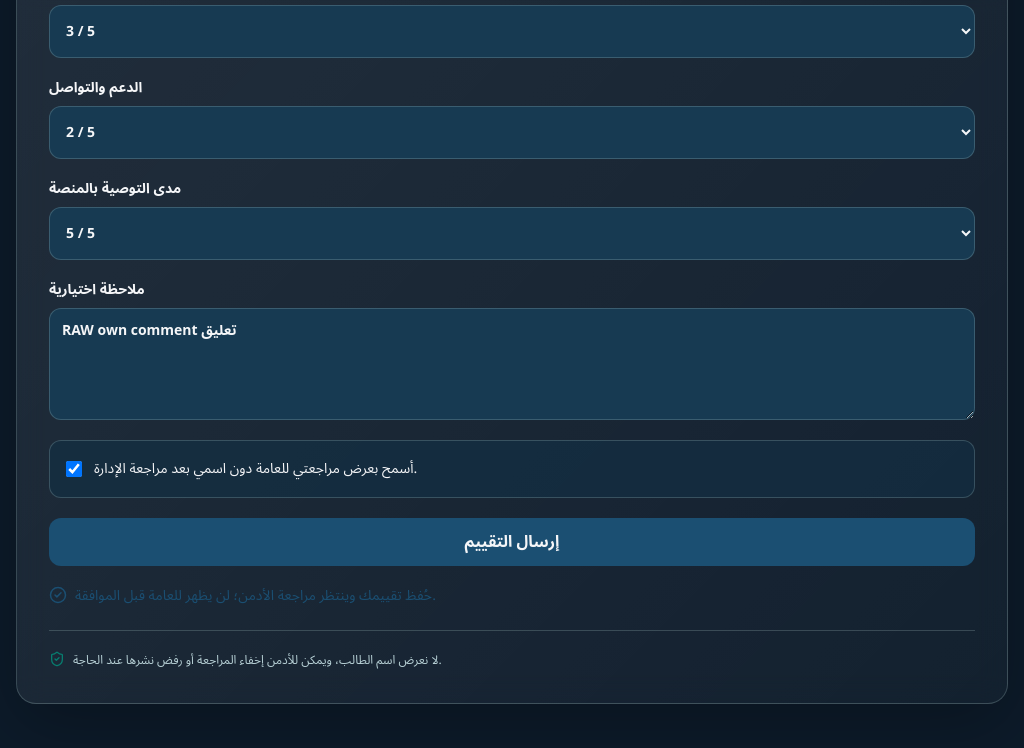
Scenario: T7-A6.3 ar UI contracts › rating save raw keeps payload, disabled guard and errors
(page scrolled)
Replace the text in the text box showing "RAW own comment تعليق" with "RAW edited comment تعليق" at (512, 364), box [49,308,975,420]
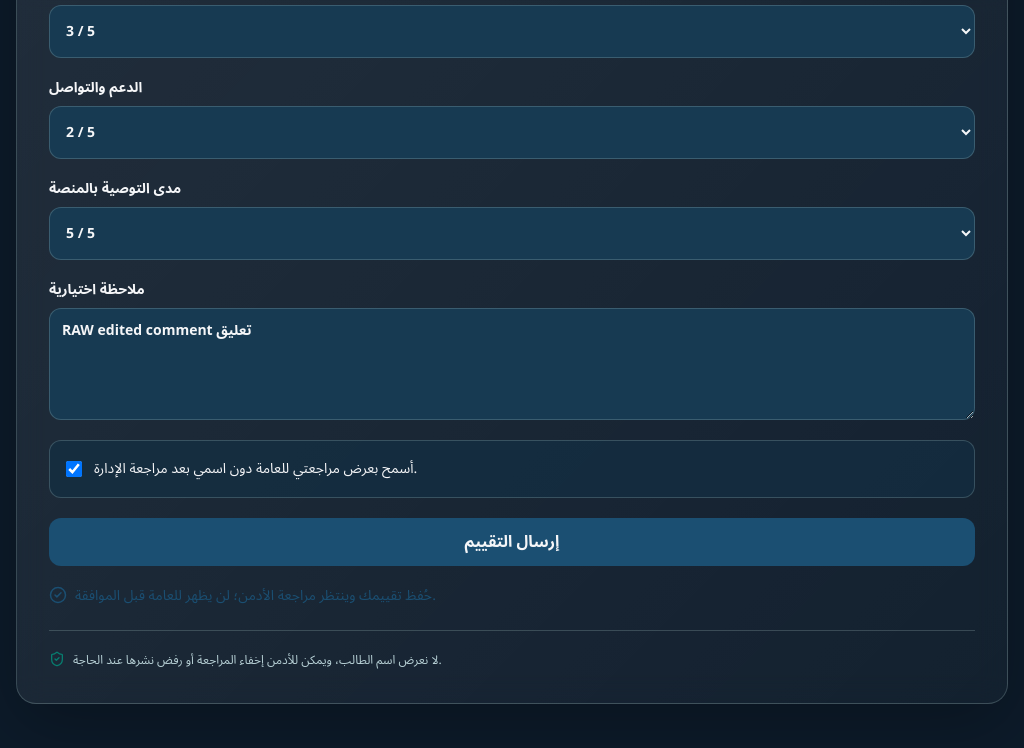
Click the button "إرسال التقييم" at (512, 542), box [49,518,975,566]
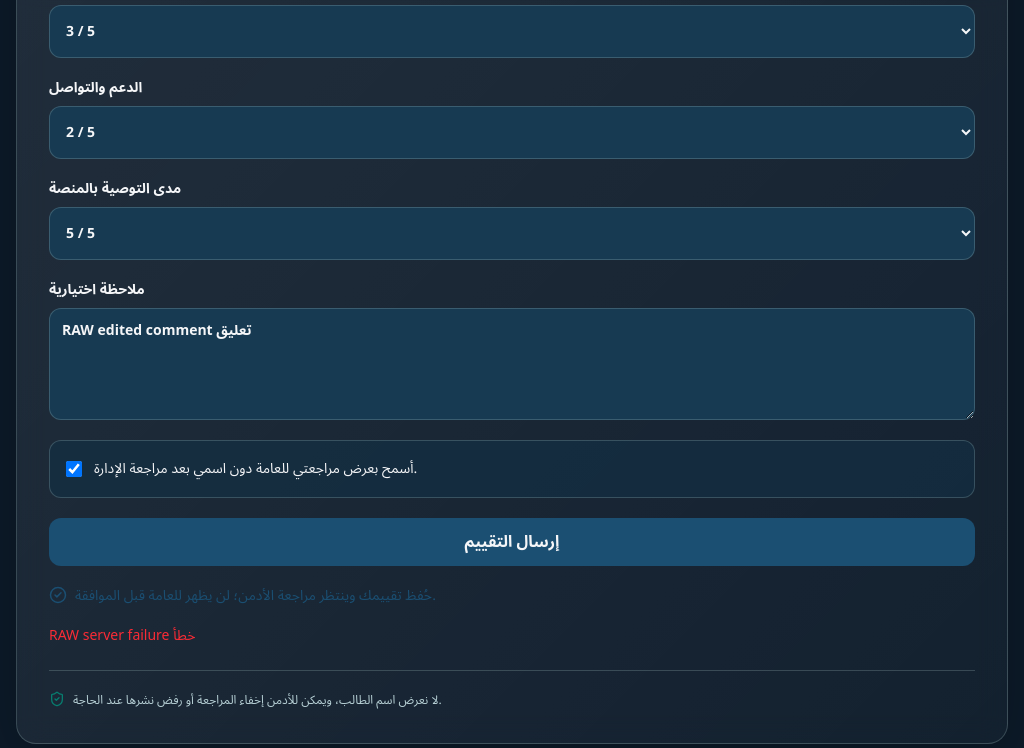
Check: the message "RAW server failure خطأ" is shown, box [49,621,195,650]
